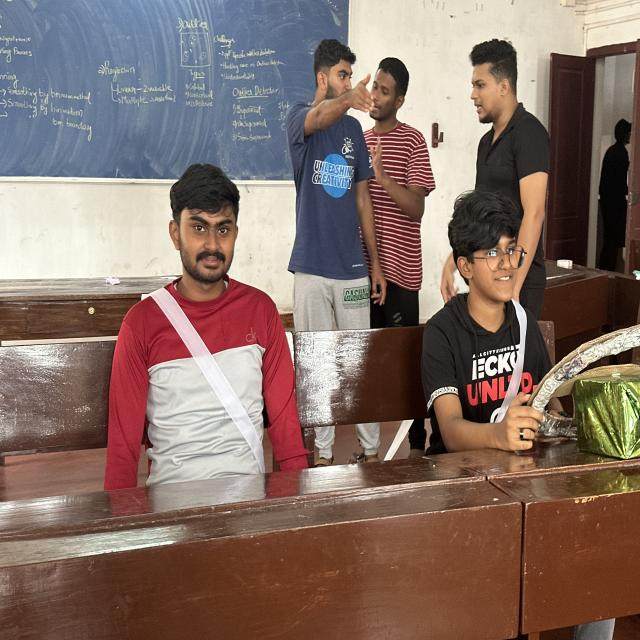seatbelt: (125, 288, 283, 481), (432, 300, 548, 432)
